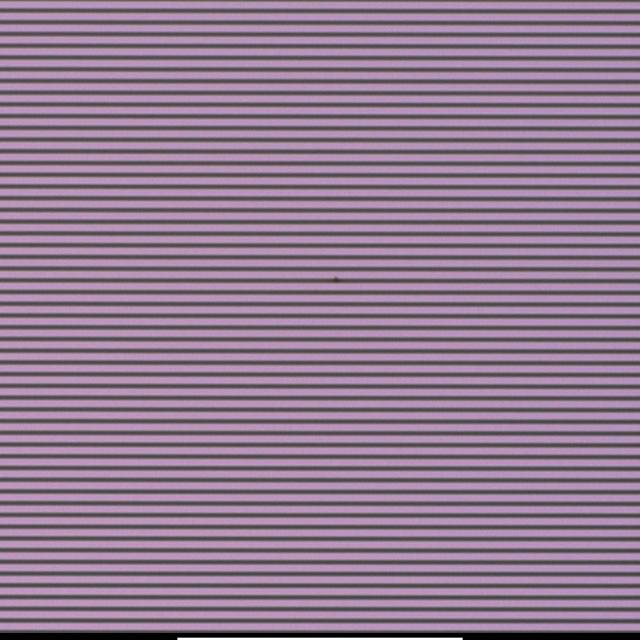03_intrusion: (332, 270, 342, 288)
